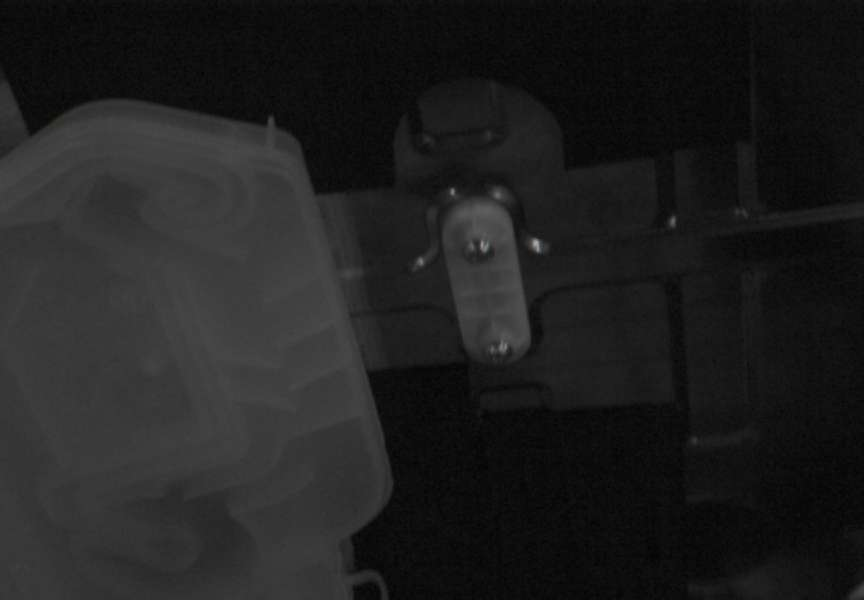screw: (463, 237, 495, 264), (485, 340, 513, 364)
